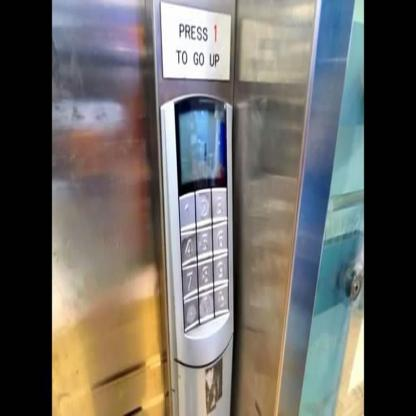1: (176, 190, 196, 232)
2: (193, 186, 213, 229)
3: (209, 184, 228, 224)
4: (178, 227, 198, 268)
5: (194, 223, 214, 263)
6: (210, 219, 228, 259)
7: (180, 260, 198, 301)
8: (195, 254, 214, 295)
9: (211, 250, 229, 288)
blur: (180, 291, 199, 332), (197, 285, 215, 324), (212, 280, 230, 318)
led: (170, 93, 229, 189)
